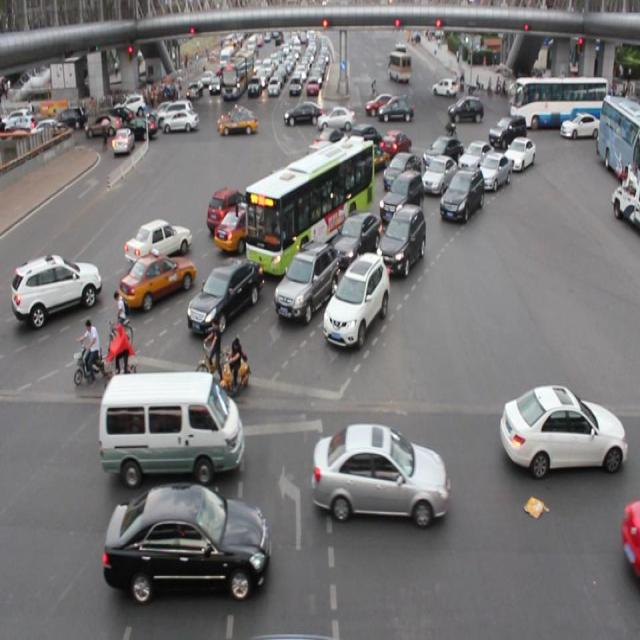car: (102, 481, 268, 594), (312, 422, 446, 518), (500, 385, 624, 473), (12, 252, 101, 325), (323, 252, 390, 342), (188, 260, 265, 330), (274, 240, 336, 318), (119, 253, 193, 306), (376, 203, 424, 273), (124, 219, 192, 263), (331, 212, 383, 264), (214, 204, 267, 251), (439, 167, 482, 221), (379, 170, 422, 222), (207, 188, 254, 234), (314, 165, 360, 202), (276, 187, 319, 224), (269, 167, 310, 205), (422, 135, 462, 173), (383, 150, 420, 191), (487, 115, 525, 154), (457, 140, 492, 179), (421, 156, 455, 196), (350, 139, 388, 174), (476, 153, 509, 190), (313, 126, 350, 158), (349, 124, 383, 158), (503, 136, 534, 170), (380, 128, 410, 162)
truck: (100, 370, 244, 480), (304, 140, 345, 181)
van: (244, 140, 373, 276)
